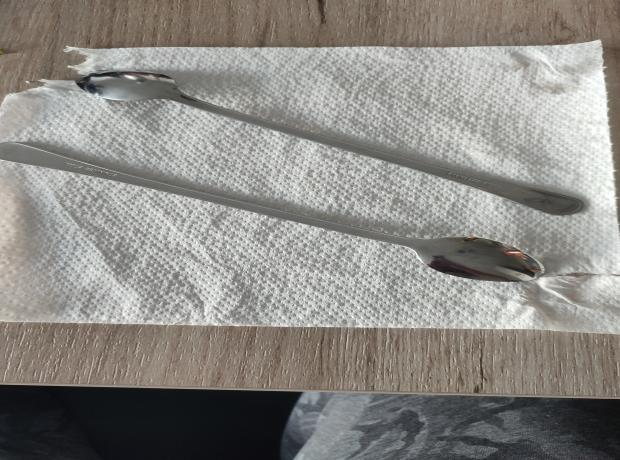metal: (0, 140, 546, 282), (78, 70, 585, 217)
